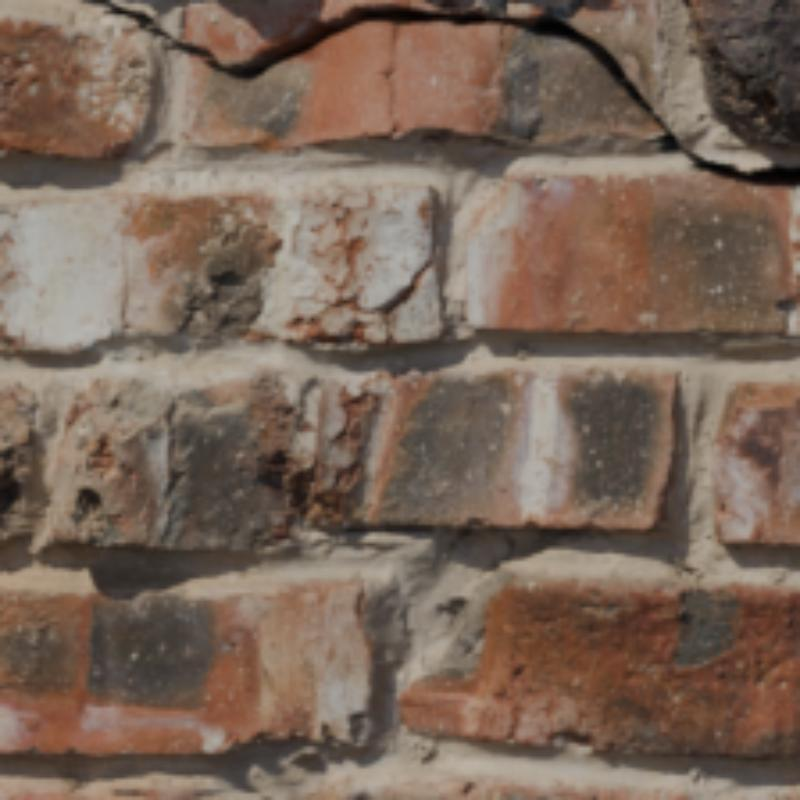pothole: (86, 0, 796, 186)
